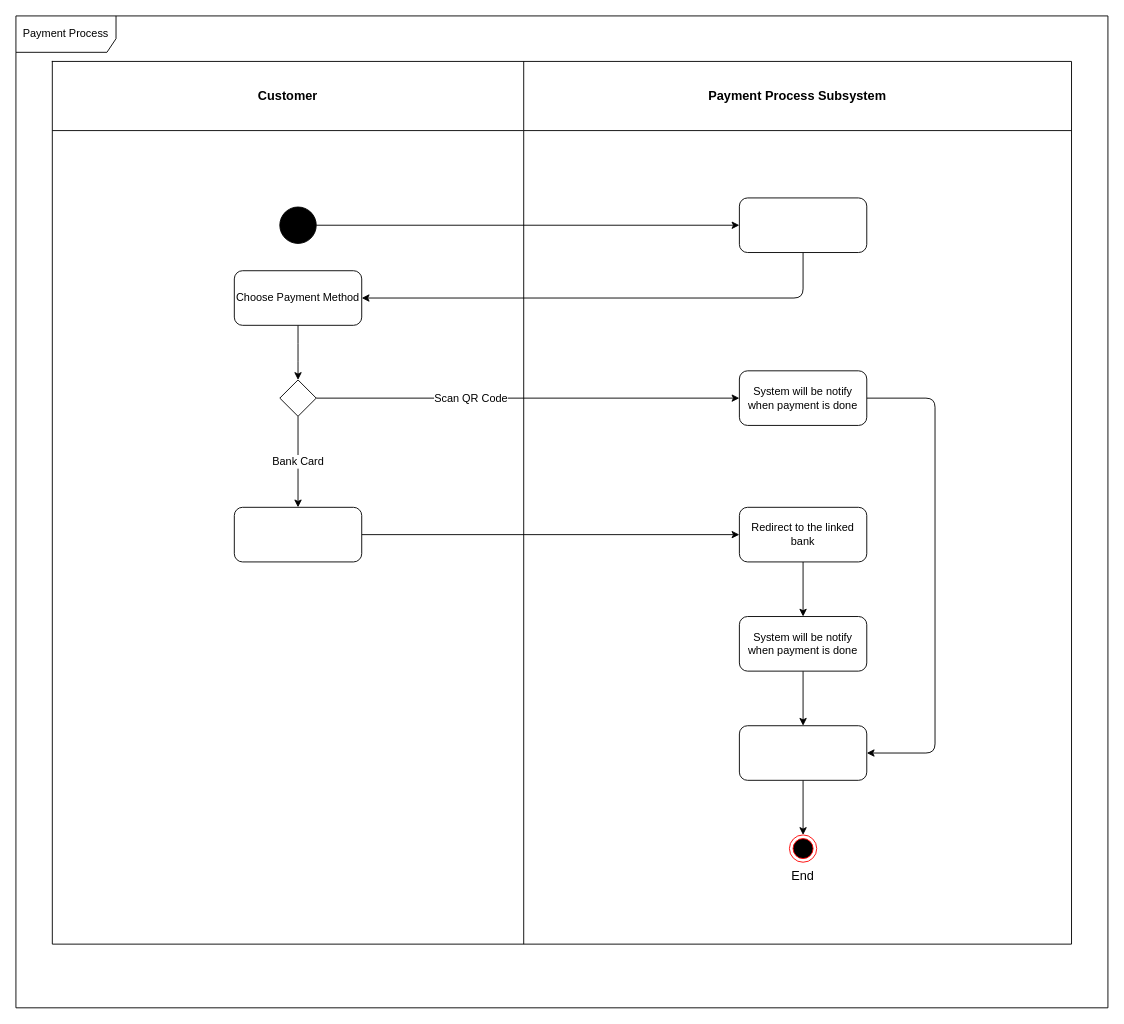
The diagram is 1124 pixels wide and 1024 high, and some of its shapes have lost their labels. Here are the shapes that lost their labels. From the top down, the centre of each, then its label:
point 802,225: Display payment page
point 297,534: Enter card details
point 802,752: Display "Your Order has been Submitted"
